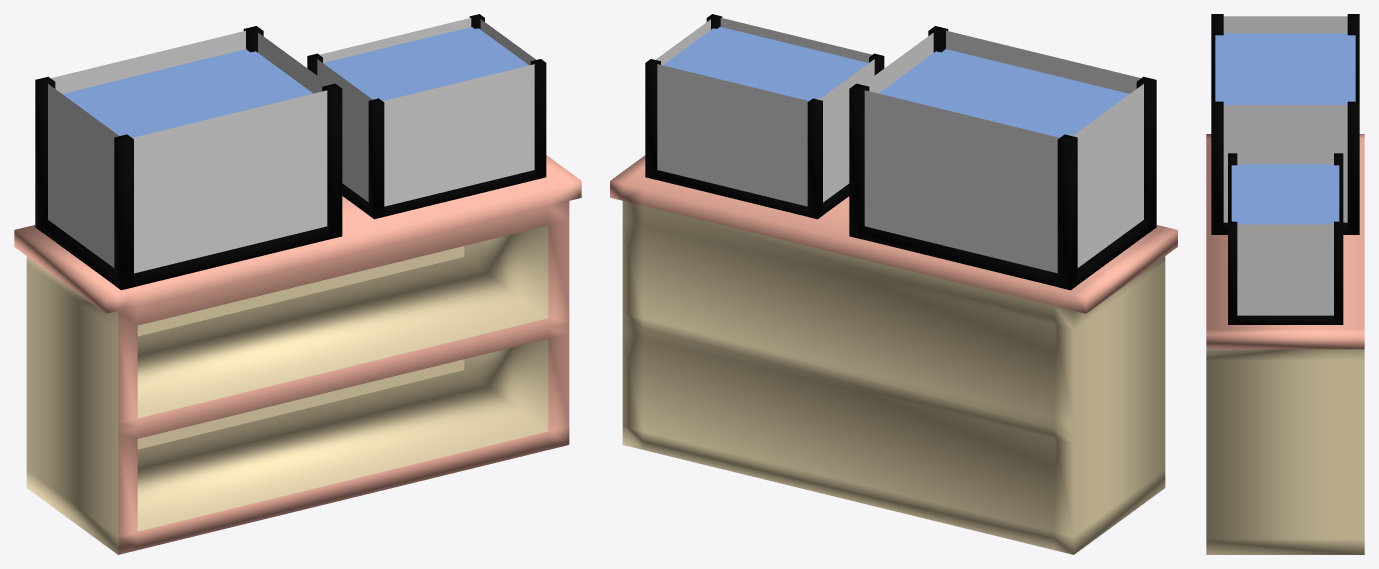
The model's file is Tank.fbx.
3 views of the same model, side by side, from view 1: azimuth 30°, elevation 25°; view 2: azimuth 150°, elevation 25°; view 3: azimuth 270°, elevation 25° (orthographic). The views are drawn at different scales.
Visible parts, largest first — view 1: Tank; view 2: Tank; view 3: Tank.
Part boxes in pixels (left/top/right/bottom): Tank: left=14, top=14, right=581, bottom=554; Tank: left=610, top=14, right=1177, bottom=554; Tank: left=1206, top=14, right=1364, bottom=554.
Size of the model in its own units: 257 by 211 by 85.68.
